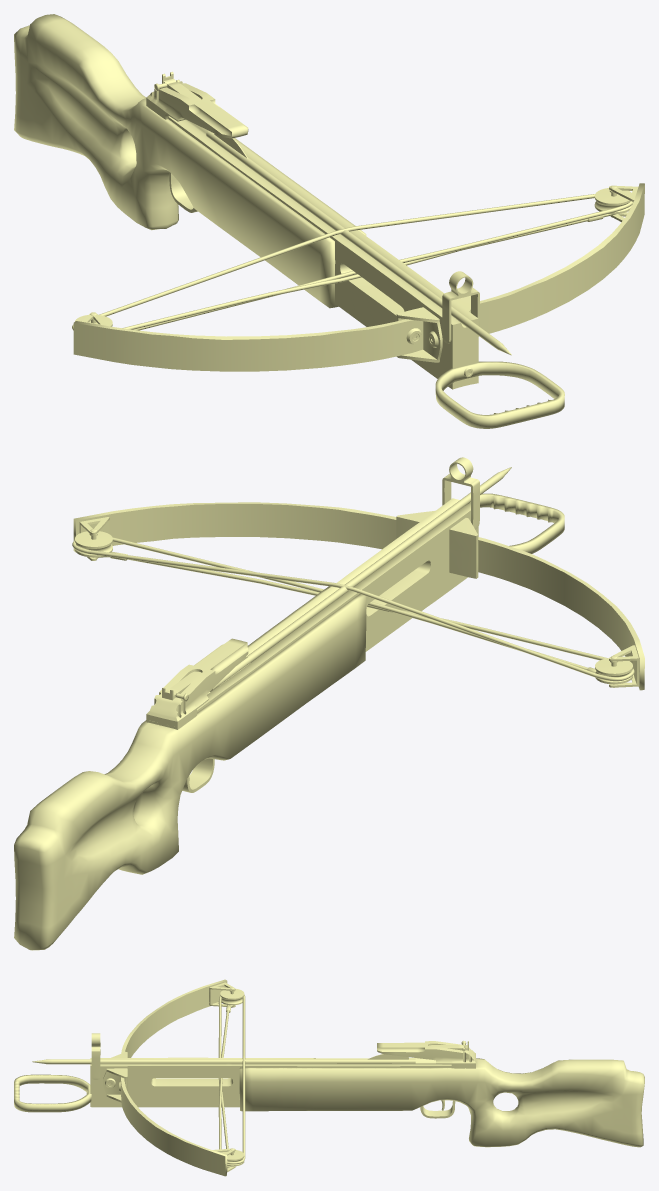
Rendered from MangaKa Props - M_R_MilitaryWeapons_Crossbow_01.glb.
3 renders of one model, top to bottom at view 1: azimuth 30°, elevation 25°; view 2: azimuth 150°, elevation 25°; view 3: azimuth 270°, elevation 25°, orthographic. The views are drawn at different scales.
Visible parts, largest first — view 1: M_R_MilitaryWeapons_Crossbow_01_blueScreen, M_R_MilitaryWeapons_Crossbow_01_Frame_blueScreen, M_R_MilitaryWeapons_Crossbow_01_Body_blueScreen, M_R_MilitaryWeapons_Crossbow_01_String_blueScreen, M_R_MilitaryWeapons_Crossbow_01_Aim_blueScreen, M_R_MilitaryWeapons_Crossbow_01_Arrow_blueScreen; view 2: M_R_MilitaryWeapons_Crossbow_01_blueScreen, M_R_MilitaryWeapons_Crossbow_01_Frame_blueScreen, M_R_MilitaryWeapons_Crossbow_01_Body_blueScreen, M_R_MilitaryWeapons_Crossbow_01_String_blueScreen, M_R_MilitaryWeapons_Crossbow_01_Aim_blueScreen, M_R_MilitaryWeapons_Crossbow_01_Arrow_blueScreen; view 3: M_R_MilitaryWeapons_Crossbow_01_blueScreen, M_R_MilitaryWeapons_Crossbow_01_Frame_blueScreen, M_R_MilitaryWeapons_Crossbow_01_Body_blueScreen, M_R_MilitaryWeapons_Crossbow_01_Arrow_blueScreen, M_R_MilitaryWeapons_Crossbow_01_Aim_blueScreen, M_R_MilitaryWeapons_Crossbow_01_String_blueScreen.
Boxes of the visible parts, x1,y1,x2,y2 form: M_R_MilitaryWeapons_Crossbow_01_blueScreen: [14, 14, 366, 308]; M_R_MilitaryWeapons_Crossbow_01_Frame_blueScreen: [73, 183, 644, 428]; M_R_MilitaryWeapons_Crossbow_01_Body_blueScreen: [168, 116, 478, 389]; M_R_MilitaryWeapons_Crossbow_01_String_blueScreen: [72, 194, 632, 330]; M_R_MilitaryWeapons_Crossbow_01_Aim_blueScreen: [146, 71, 248, 138]; M_R_MilitaryWeapons_Crossbow_01_Arrow_blueScreen: [206, 130, 511, 355]; M_R_MilitaryWeapons_Crossbow_01_blueScreen: [14, 586, 366, 950]; M_R_MilitaryWeapons_Crossbow_01_Frame_blueScreen: [73, 457, 644, 690]; M_R_MilitaryWeapons_Crossbow_01_Body_blueScreen: [148, 498, 478, 728]; M_R_MilitaryWeapons_Crossbow_01_String_blueScreen: [72, 537, 634, 681]; M_R_MilitaryWeapons_Crossbow_01_Aim_blueScreen: [146, 638, 248, 729]; M_R_MilitaryWeapons_Crossbow_01_Arrow_blueScreen: [210, 467, 511, 691]; M_R_MilitaryWeapons_Crossbow_01_blueScreen: [239, 1058, 644, 1147]; M_R_MilitaryWeapons_Crossbow_01_Frame_blueScreen: [14, 979, 244, 1176]; M_R_MilitaryWeapons_Crossbow_01_Body_blueScreen: [90, 1057, 451, 1107]; M_R_MilitaryWeapons_Crossbow_01_Arrow_blueScreen: [32, 1054, 415, 1064]; M_R_MilitaryWeapons_Crossbow_01_Aim_blueScreen: [377, 1041, 475, 1068]; M_R_MilitaryWeapons_Crossbow_01_String_blueScreen: [218, 995, 245, 1164].
Size of the model in its own units: 0.4519 by 0.1334 by 0.681.
